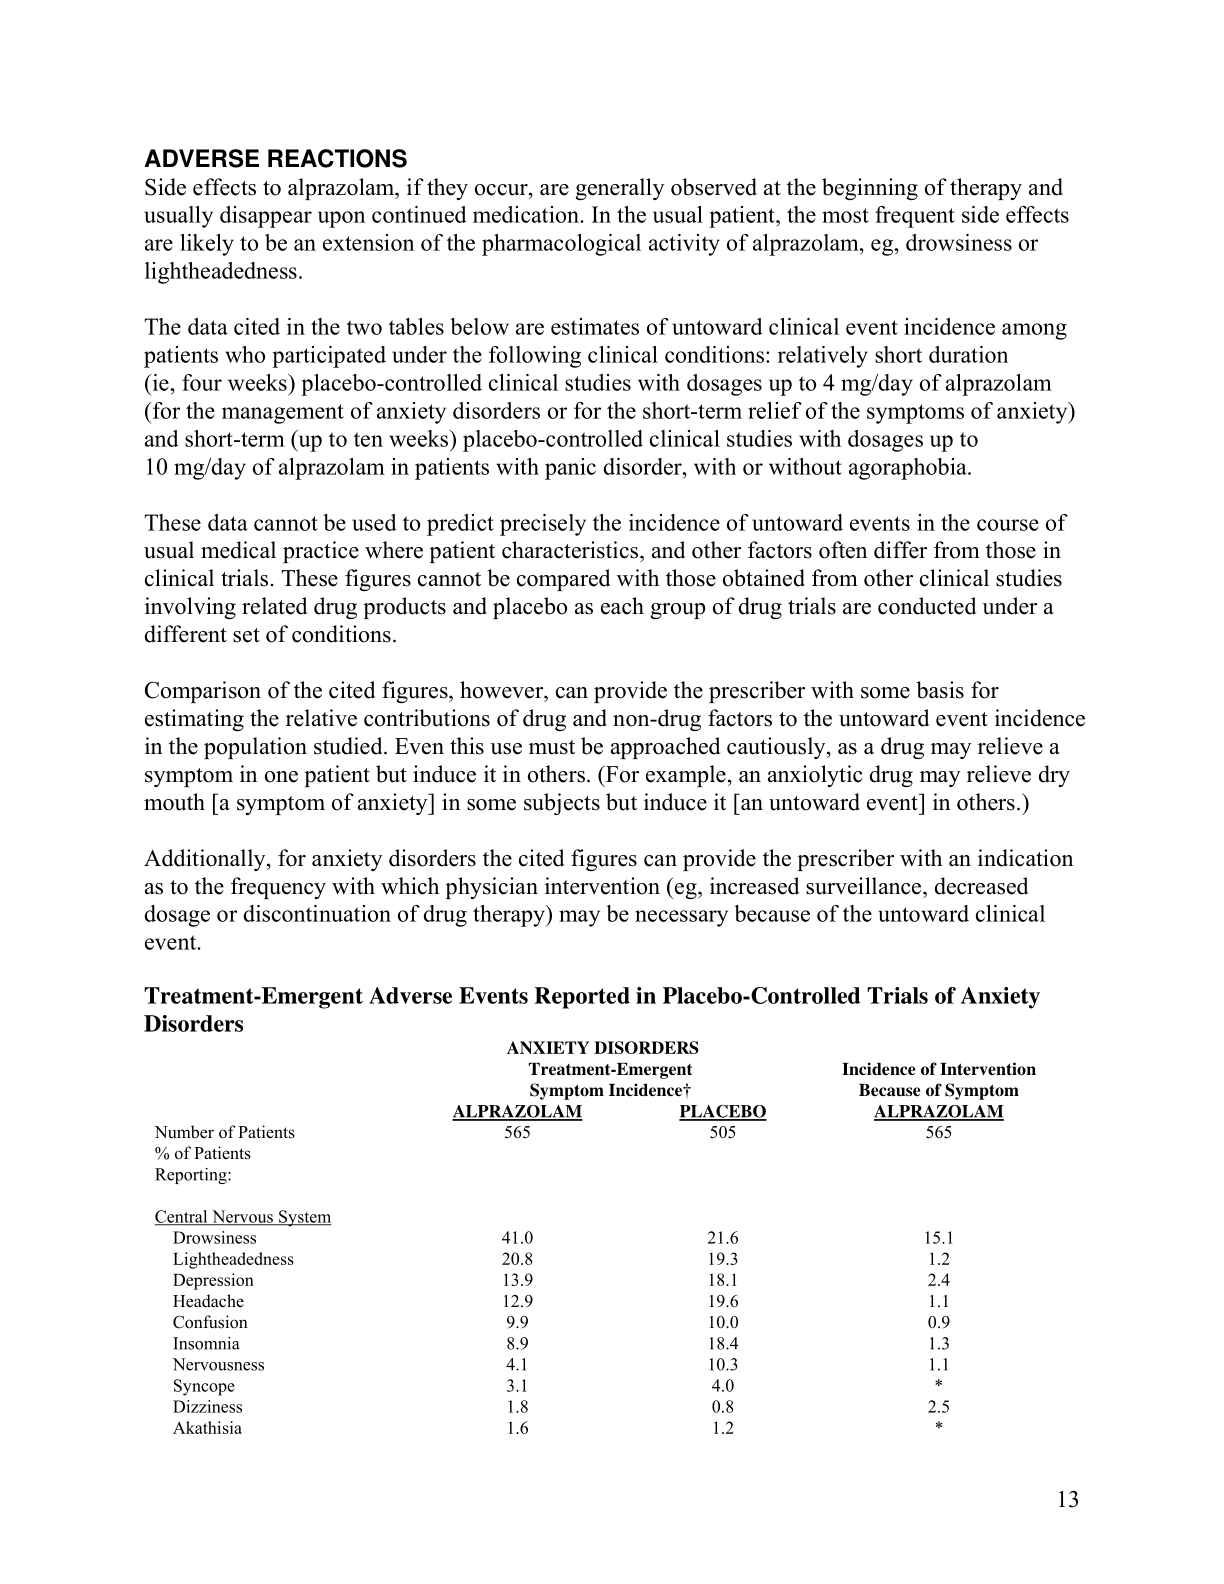nolines: (149, 1038, 1036, 1437)
